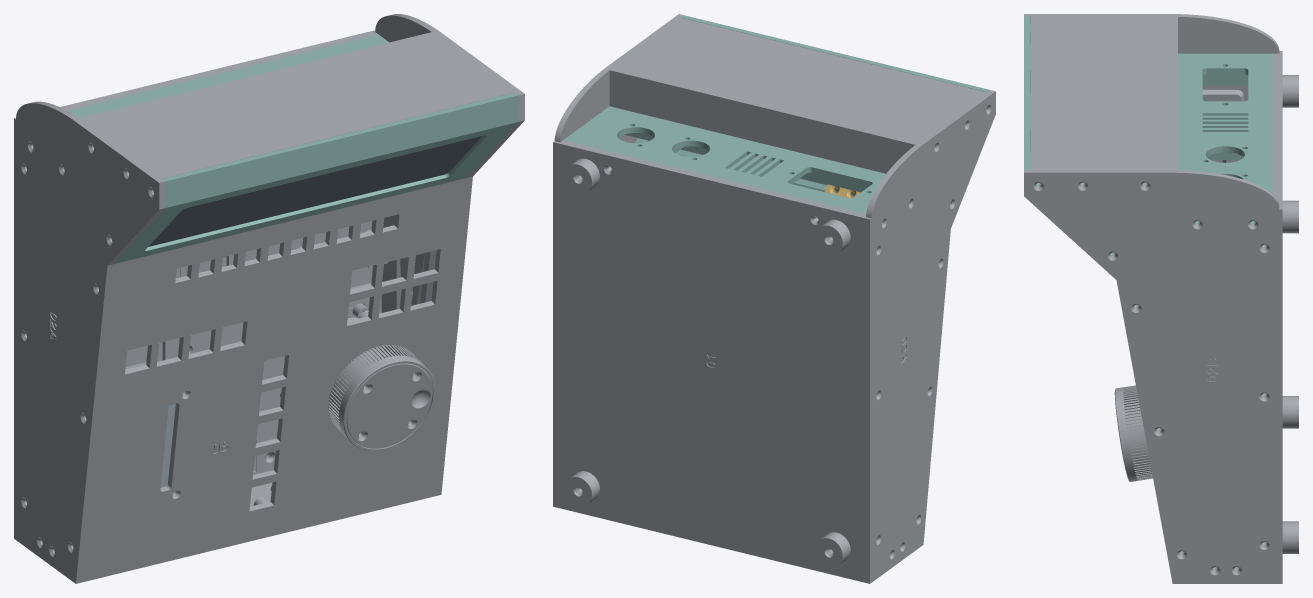
Rendered from assieme.glb.
The picture shows the model from 3 angles, left to right: view 1: azimuth 30°, elevation 25°; view 2: azimuth 150°, elevation 25°; view 3: azimuth 270°, elevation 25°; orthographic projection. The views are drawn at different scales.
Parts seen in each view (by area): view 1: 08_Deck, 02_Fianco_SX, 29_Retro_a_L, 09_Console_schermo, DISPLAY_RIFERIMENTO, 02_Fianco_DX, 13B_Tappo_jog, 15_Placca_L, 06_Retro_IO, 13_Ruota_jog, 04_Frontale, 01_Base (+2 smaller); view 2: 01_Base, 02_Fianco_SX, 29_Retro_a_L, 06_Retro_IO, 02_Fianco_DX, 04_Frontale, 09_Console_schermo, 18_Piedino_1su4, 18_Piedino_2su4, 18_Piedino_3su4, 18_Piedino_4su4; view 3: 02_Fianco_DX, 29_Retro_a_L, 06_Retro_IO, 02_Fianco_SX, 13_Ruota_jog, 01_Base, 09_Console_schermo, 18_Piedino_4su4, 18_Piedino_3su4, 18_Piedino_2su4, 18_Piedino_1su4.
Boxes of the visible parts, x1=… form: 08_Deck: x1=83, y1=178, x2=466, y2=575; 02_Fianco_SX: x1=14, y1=101, x2=165, y2=583; 29_Retro_a_L: x1=79, y1=32, x2=514, y2=178; 09_Console_schermo: x1=114, y1=92, x2=518, y2=263; DISPLAY_RIFERIMENTO: x1=148, y1=136, x2=482, y2=246; 02_Fianco_DX: x1=374, y1=14, x2=524, y2=496; 13B_Tappo_jog: x1=346, y1=363, x2=432, y2=448; 15_Placca_L: x1=162, y1=256, x2=381, y2=474; 06_Retro_IO: x1=67, y1=34, x2=388, y2=117; 13_Ruota_jog: x1=328, y1=345, x2=435, y2=451; 04_Frontale: x1=82, y1=483, x2=435, y2=582; 01_Base: x1=60, y1=30, x2=387, y2=457; 01_Base: x1=558, y1=140, x2=866, y2=576; 02_Fianco_SX: x1=864, y1=90, x2=995, y2=583; 29_Retro_a_L: x1=609, y1=18, x2=986, y2=173; 06_Retro_IO: x1=564, y1=106, x2=885, y2=213; 02_Fianco_DX: x1=553, y1=14, x2=683, y2=507; 04_Frontale: x1=558, y1=502, x2=864, y2=582; 09_Console_schermo: x1=635, y1=15, x2=989, y2=196; 18_Piedino_1su4: x1=815, y1=532, x2=850, y2=567; 18_Piedino_2su4: x1=564, y1=471, x2=599, y2=506; 18_Piedino_3su4: x1=815, y1=219, x2=850, y2=254; 18_Piedino_4su4: x1=564, y1=158, x2=599, y2=193; 02_Fianco_DX: x1=1024, y1=170, x2=1282, y2=583; 29_Retro_a_L: x1=1031, y1=16, x2=1178, y2=185; 06_Retro_IO: x1=1178, y1=53, x2=1272, y2=224; 02_Fianco_SX: x1=1024, y1=14, x2=1282, y2=162; 13_Ruota_jog: x1=1114, y1=385, x2=1152, y2=481; 01_Base: x1=1262, y1=53, x2=1282, y2=545; 09_Console_schermo: x1=1024, y1=16, x2=1115, y2=255; 18_Piedino_4su4: x1=1282, y1=200, x2=1298, y2=233; 18_Piedino_3su4: x1=1282, y1=75, x2=1298, y2=107; 18_Piedino_2su4: x1=1282, y1=521, x2=1298, y2=553; 18_Piedino_1su4: x1=1282, y1=396, x2=1298, y2=428.
Bounding box in the file's own units: 230 × 278 × 168.
